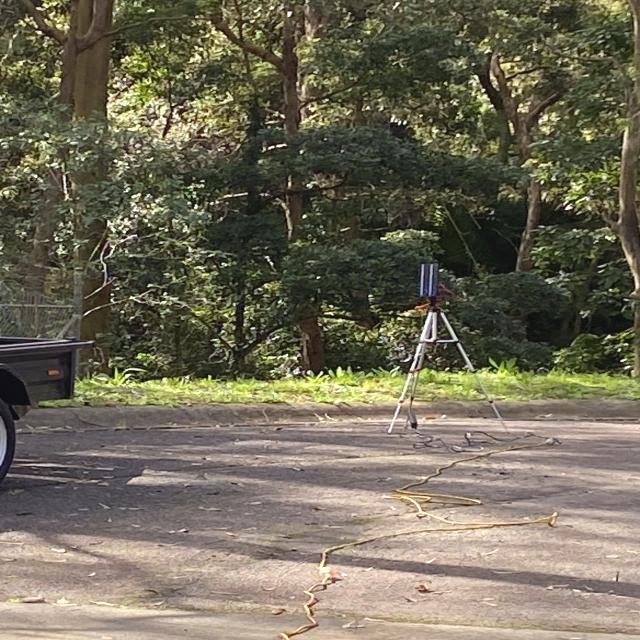matrix: (419, 263, 439, 298)
